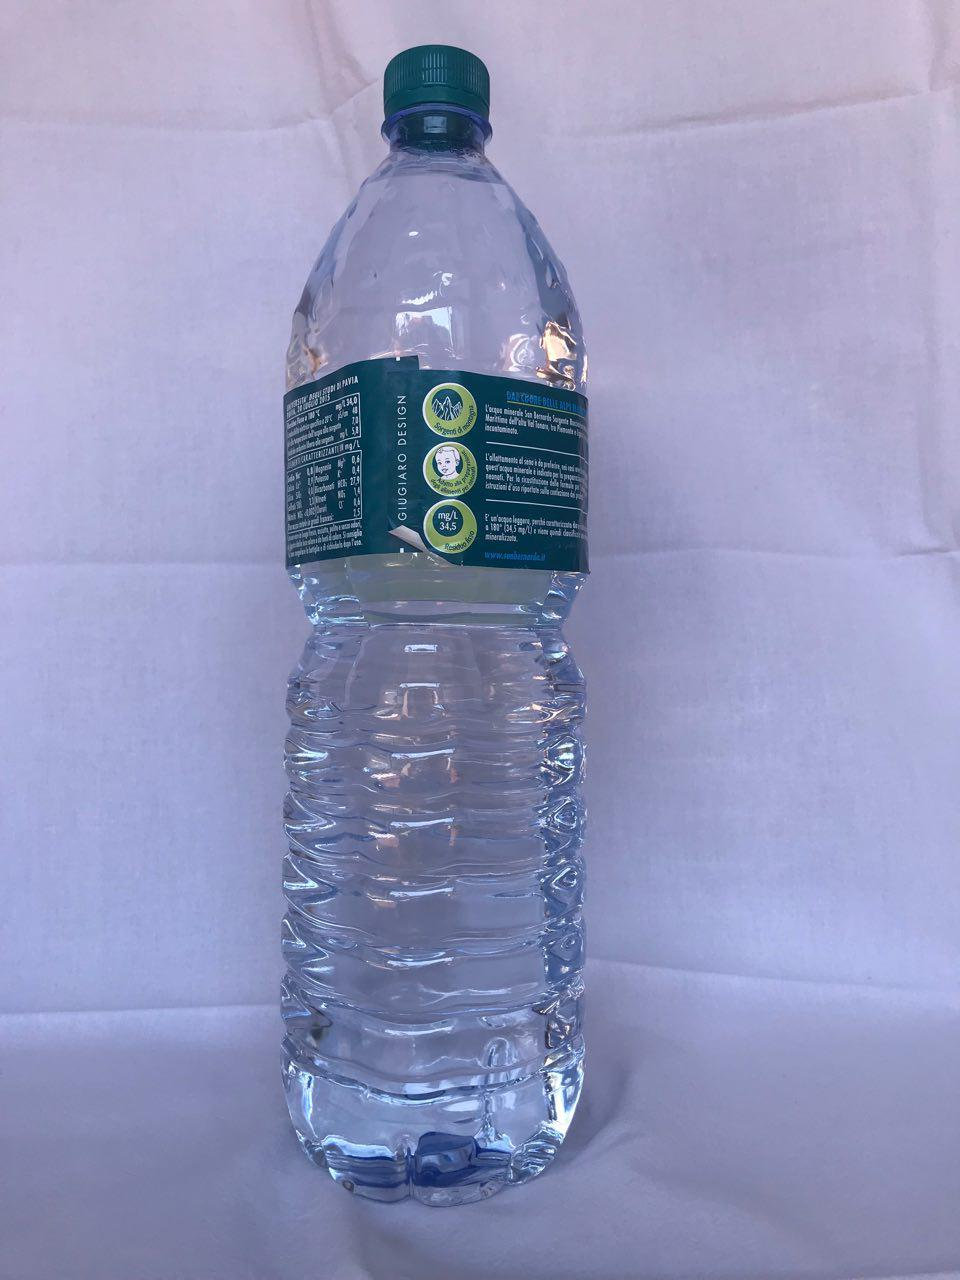san_bernardo: (277, 42, 591, 1208)
